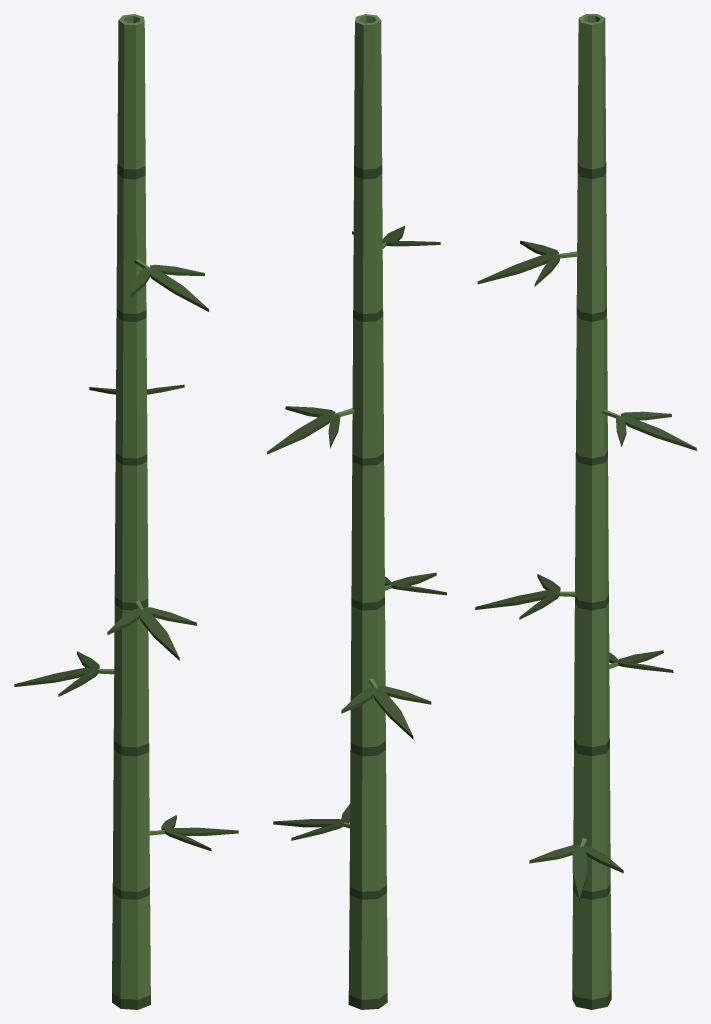
The model's file is tree_bamboo_1.glb.
3 renders of one model, left to right at view 1: azimuth 30°, elevation 25°; view 2: azimuth 150°, elevation 25°; view 3: azimuth 270°, elevation 25°, orthographic.
Visible parts, largest first — view 1: tree_bamboo_1; view 2: tree_bamboo_1; view 3: tree_bamboo_1.
Boxes of the visible parts, <box> form: tree_bamboo_1: <box>14,14,238,1009</box>; tree_bamboo_1: <box>267,14,446,1009</box>; tree_bamboo_1: <box>475,14,696,1009</box>.
Bounding box in the file's own units: 1.75 × 9 × 1.84.
